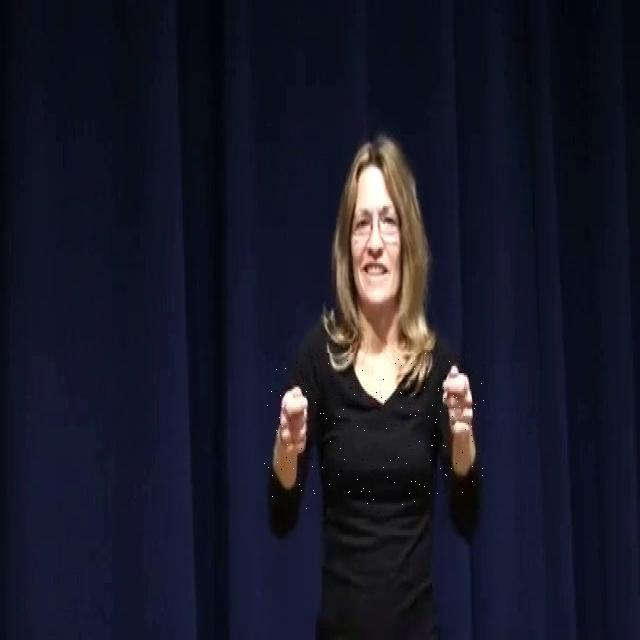manager: (264, 354, 486, 514)
